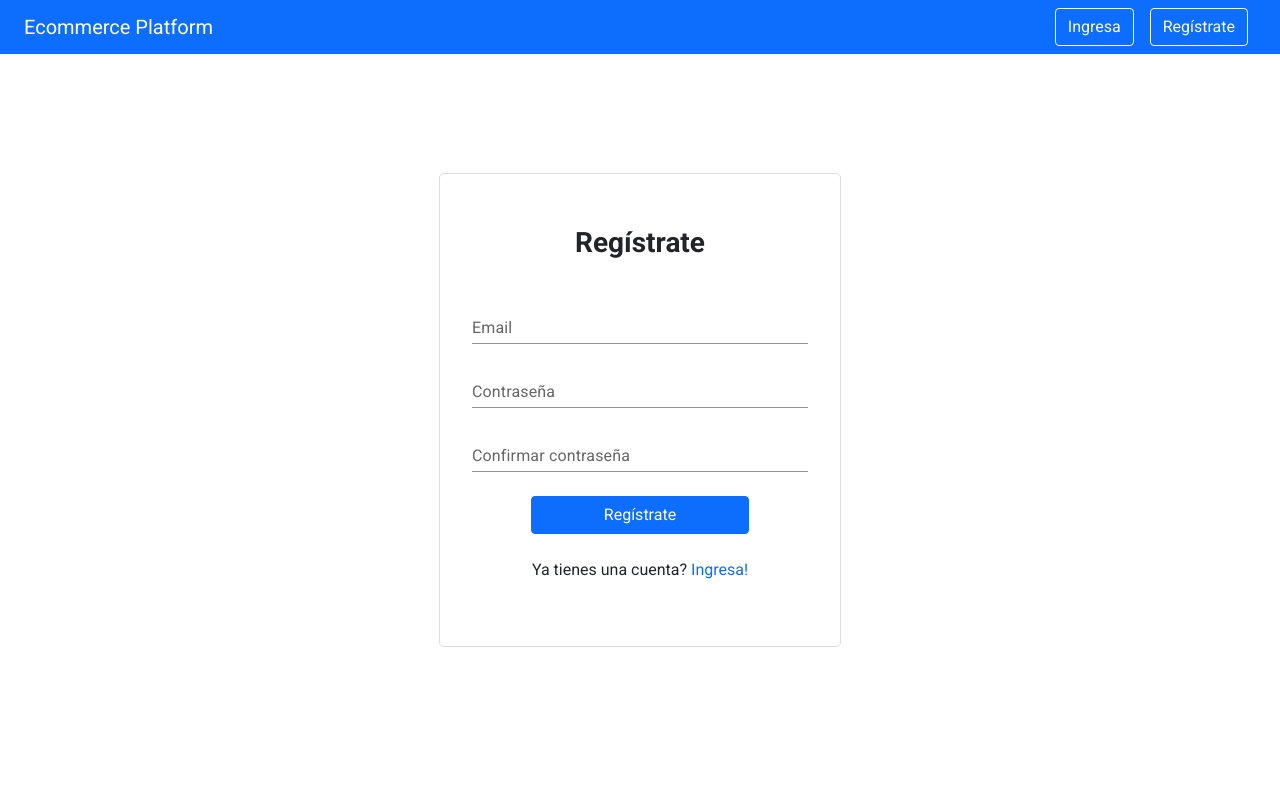
Test: Sign up page › validates form - non matching passwords
Step 1. Type "abcdef" into the password field labelled "Contraseña" → (640, 392), box [472, 376, 808, 408]
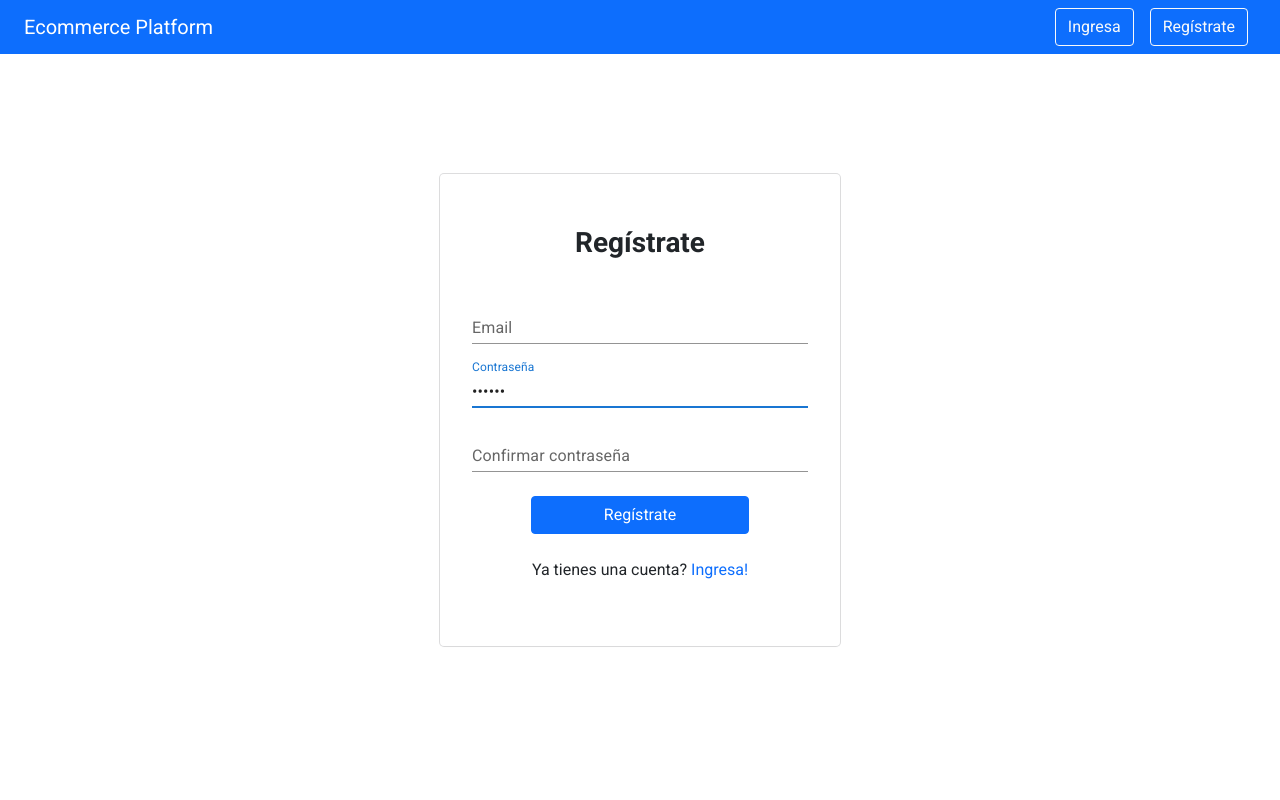
Step 2. Type "123456" into the password field labelled "Confirmar contraseña" → (640, 456), box [472, 440, 808, 472]
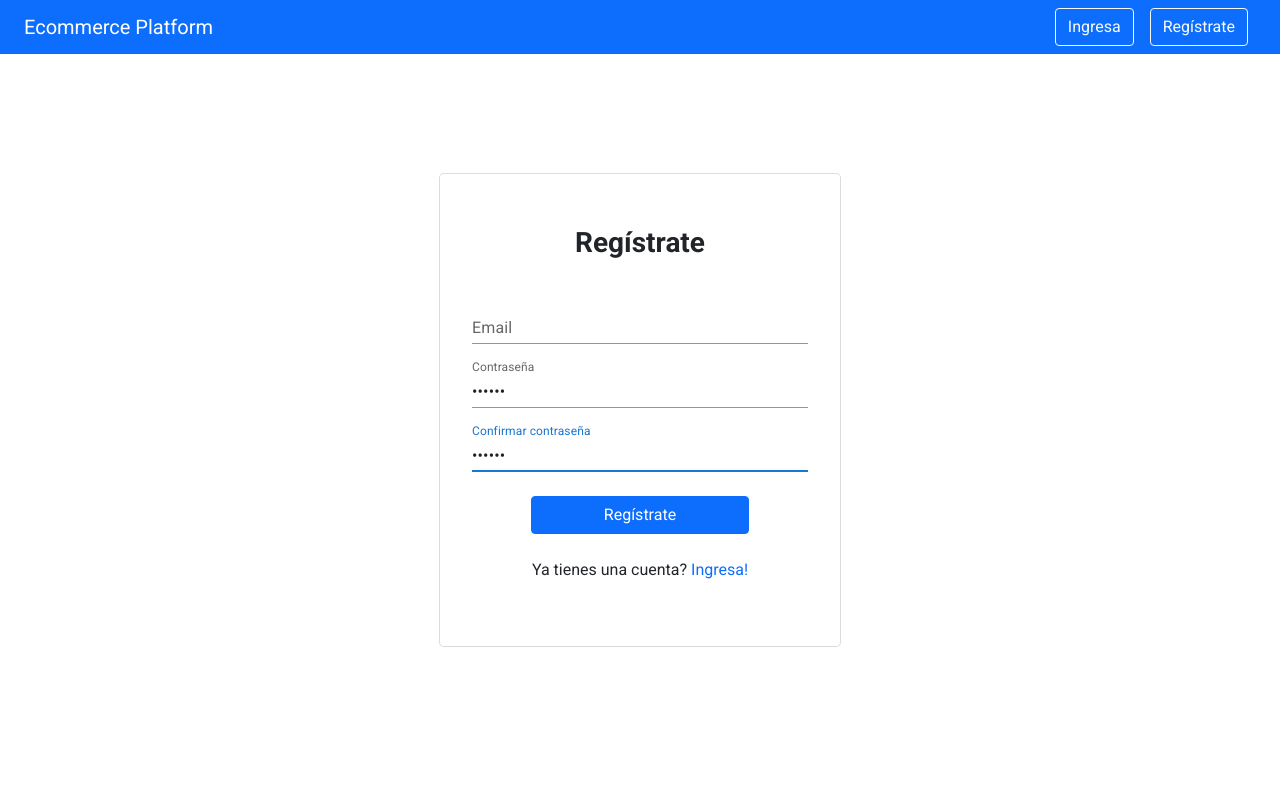
Step 3. Click the button "Regístrate" below "Confirmar contraseña" → (640, 515), box [531, 496, 749, 534]
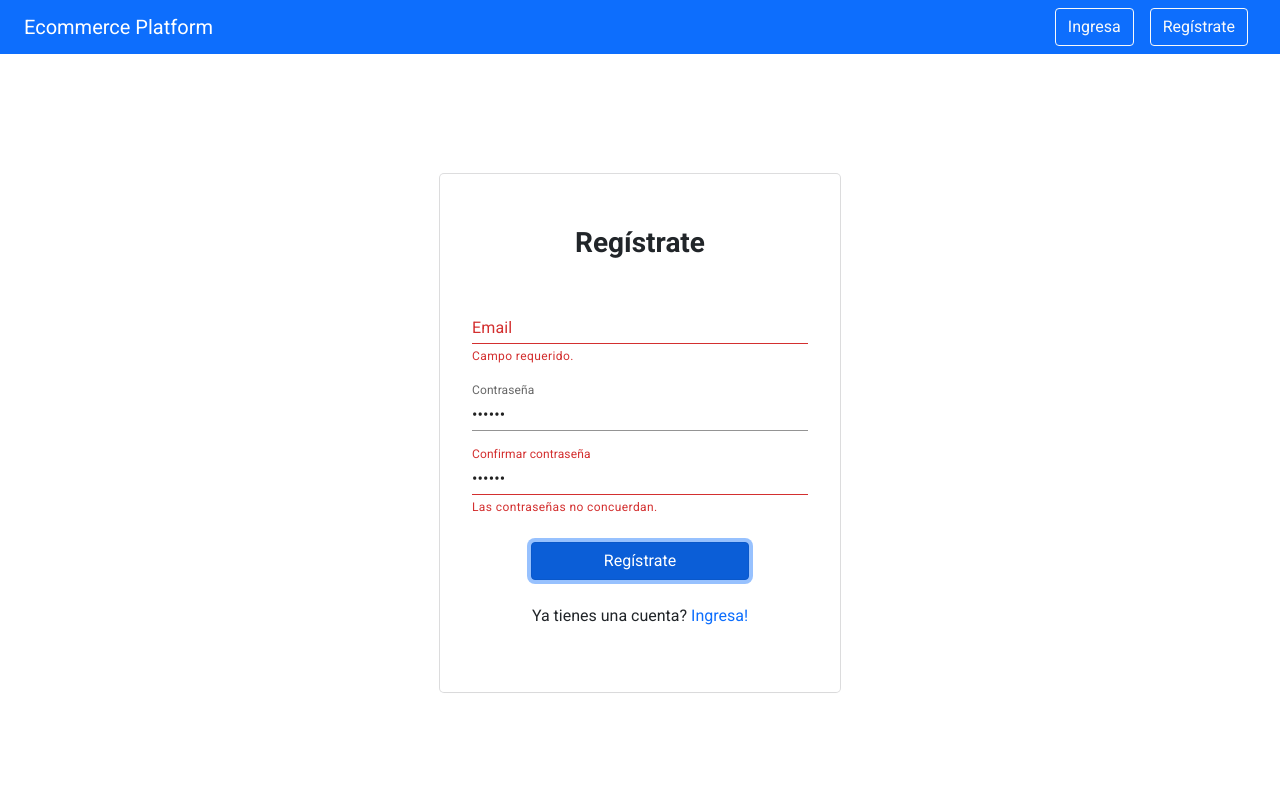
Expected: the text "Las contraseñas no concuerdan." is shown, [472, 500, 658, 514]
